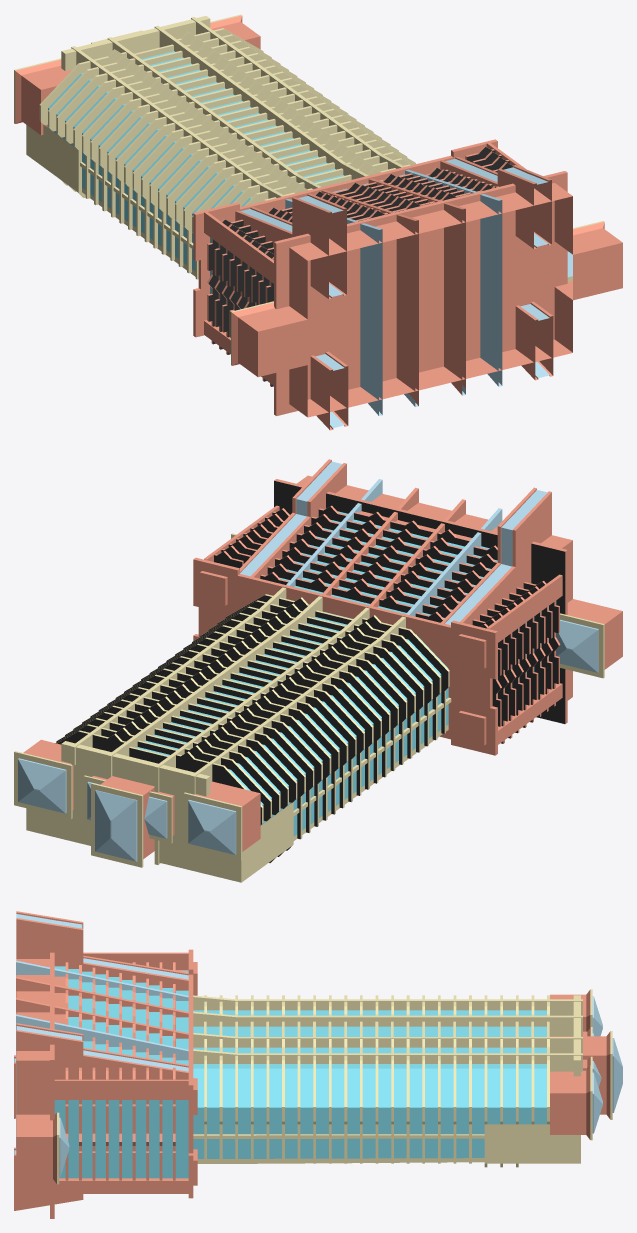
File: MantraCrownTowers.fbx
3 views of the same model, one above another, from view 1: azimuth 30°, elevation 25°; view 2: azimuth 150°, elevation 25°; view 3: azimuth 270°, elevation 25° (orthographic). The views are drawn at different scales.
Visible parts, largest first — view 1: Cube.005; view 2: Cube.005; view 3: Cube.005.
Boxes of the visible parts, box(x1,y1,x2,y2) form: Cube.005: box(14, 14, 622, 430); Cube.005: box(14, 459, 622, 882); Cube.005: box(14, 911, 622, 1218).
Bounding box in the file's own units: 85.73 × 47.69 × 132.
